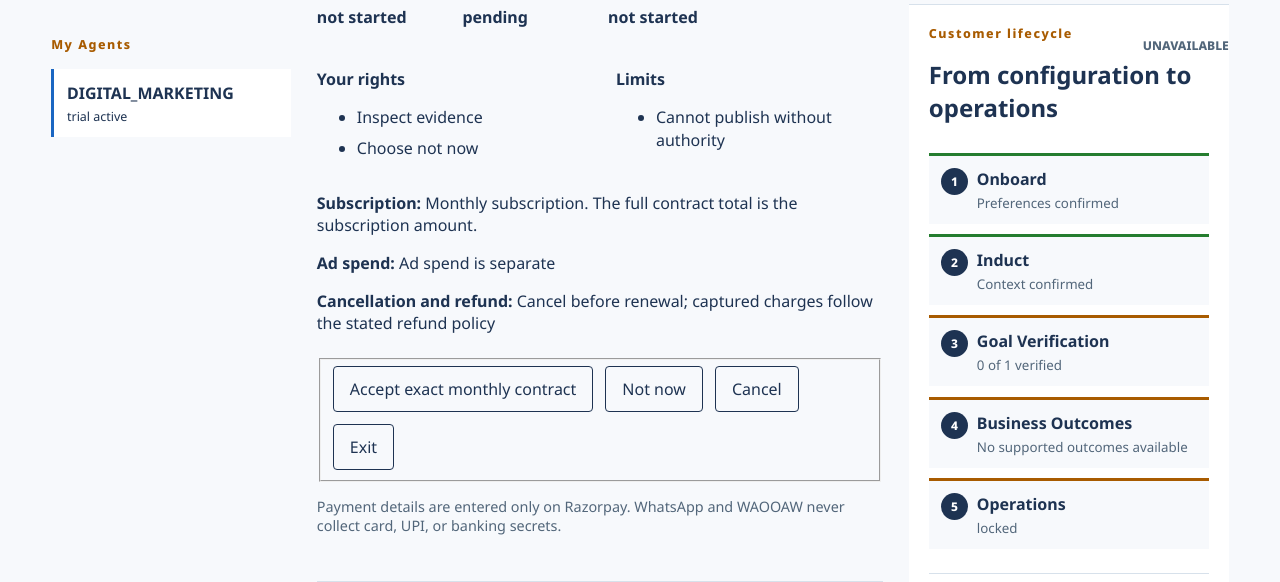
RelationshipWorkspace › CCT-AE01-DARK-01 shows exact terms and symmetric unselected contract decisions
(page scrolled)
Expected: the text "Ad spend: Ad spend is separate" is shown, [317, 252, 555, 274]
Expected: the button "Not now" is shown, [605, 366, 703, 412]
Click the button "Accept exact monthly contract".
click(463, 389)  # box [333, 366, 593, 412]
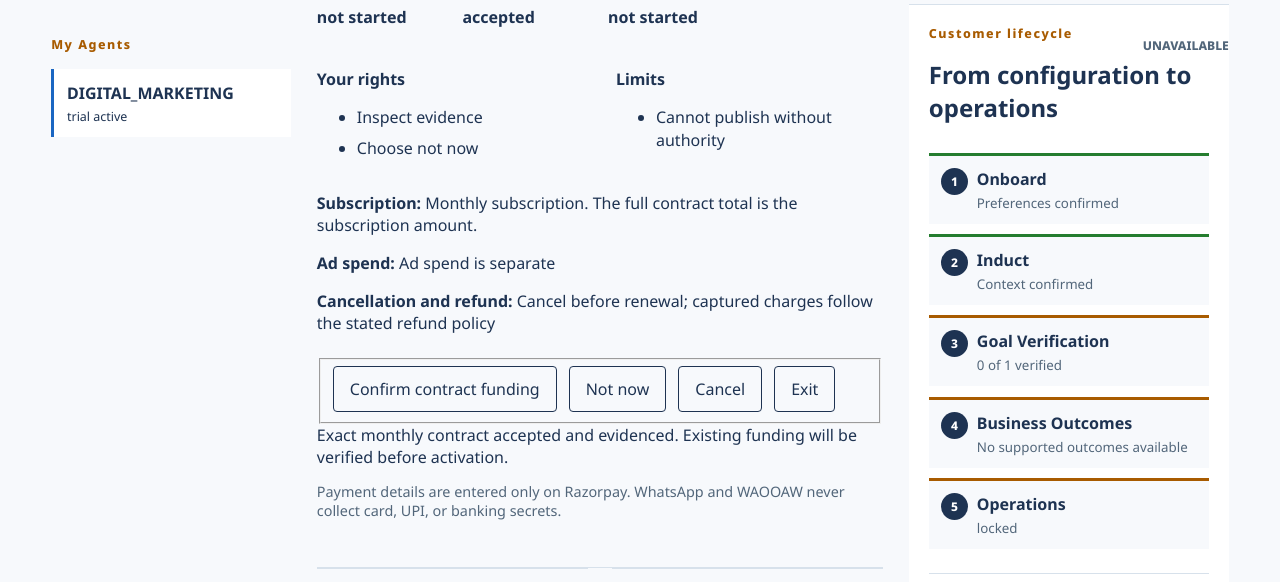
Result: the button "Confirm contract funding" is shown
Result: the text "Exact monthly contract accepted and evidenced. Existing funding will be verified before activation." is shown at [317, 424, 857, 468]
Click the button "Confirm contract funding".
click(445, 389)  # box [333, 366, 557, 412]
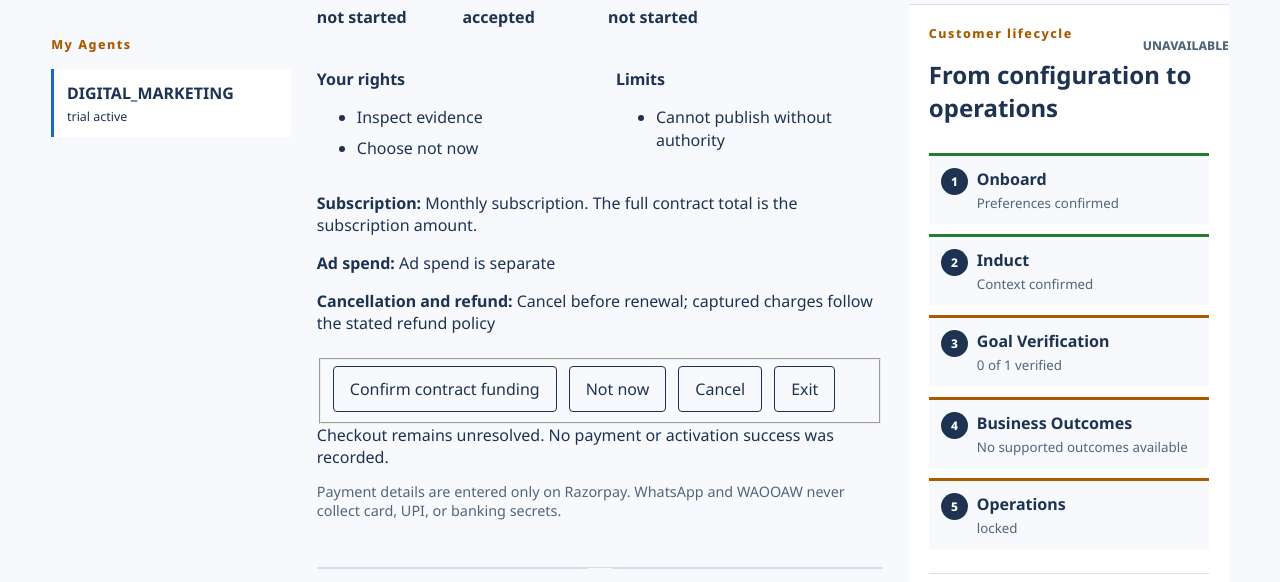
Result: the text "Checkout remains unresolved" is shown at [317, 424, 834, 468]
Click the button "Not now".
click(618, 389)  # box [569, 366, 666, 412]
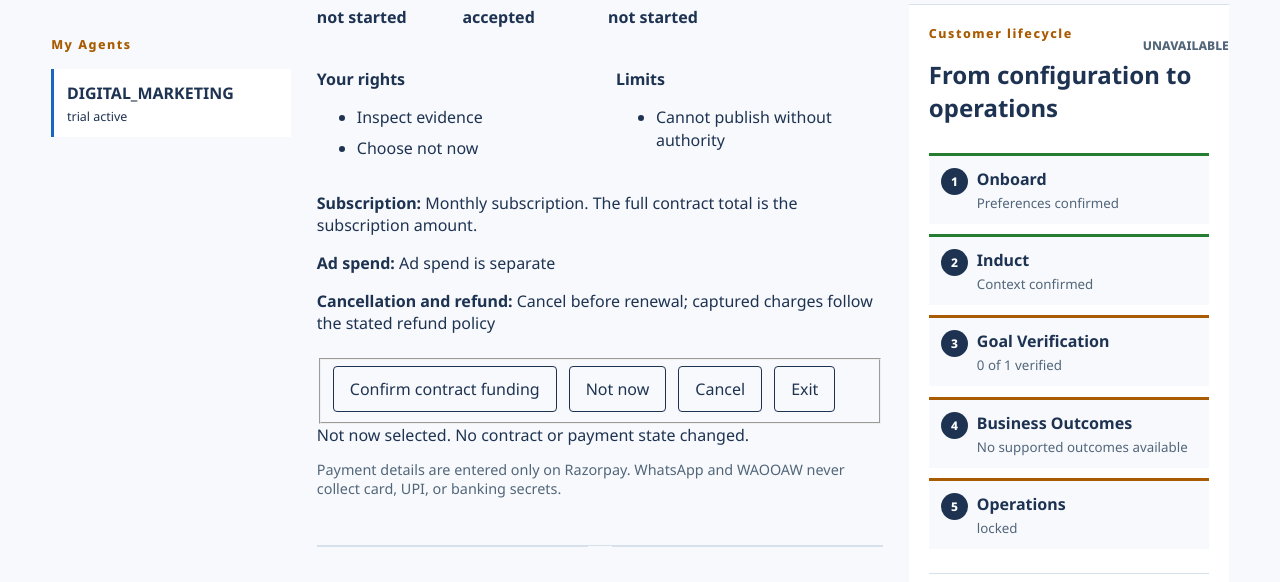
Result: the text "Not now selected. No contract or payment state changed." is shown at [317, 424, 749, 446]
Click the button "Cancel".
click(720, 389)  # box [678, 366, 762, 412]
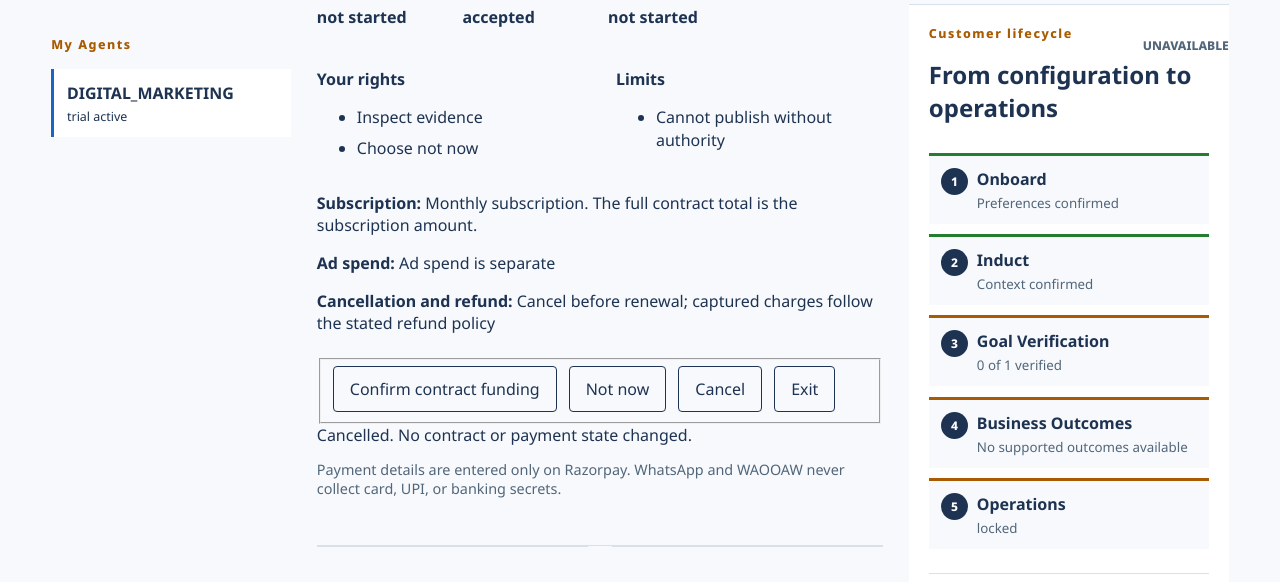
Result: the text "Cancelled. No contract or payment state changed." is shown at [317, 424, 692, 446]
